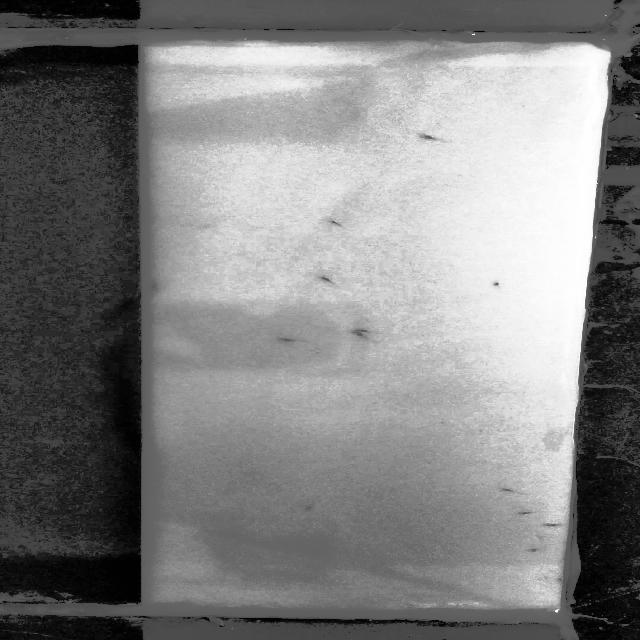shrimp: (315, 212, 355, 232), (311, 270, 343, 294), (269, 330, 301, 348), (143, 280, 167, 297), (414, 130, 443, 143), (511, 506, 536, 518), (292, 504, 324, 512), (482, 278, 503, 289), (540, 521, 568, 529), (524, 546, 544, 556), (498, 486, 516, 497), (344, 332, 372, 338), (349, 328, 376, 333)
